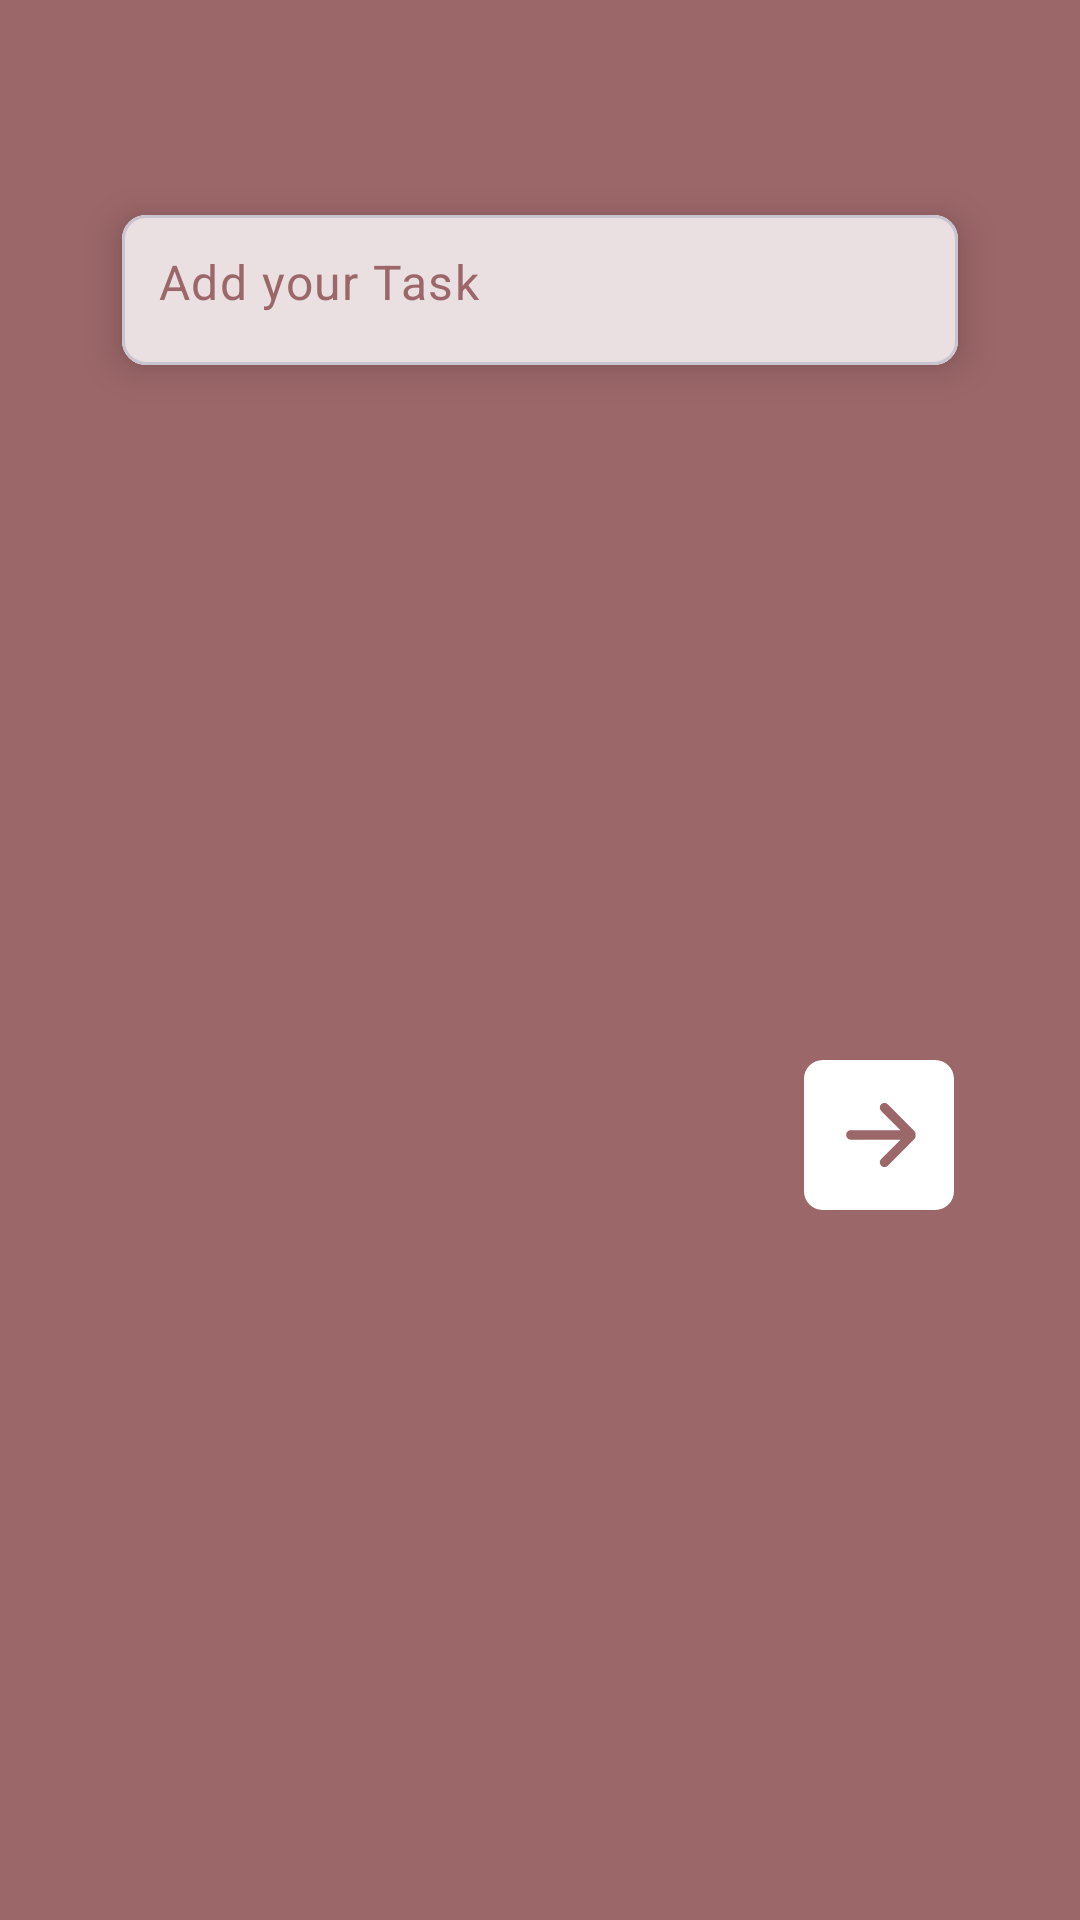

Icon click points for this 1080 × 1920 phone screenshot, format point (x, y):
arrow right: point (879, 1135)
